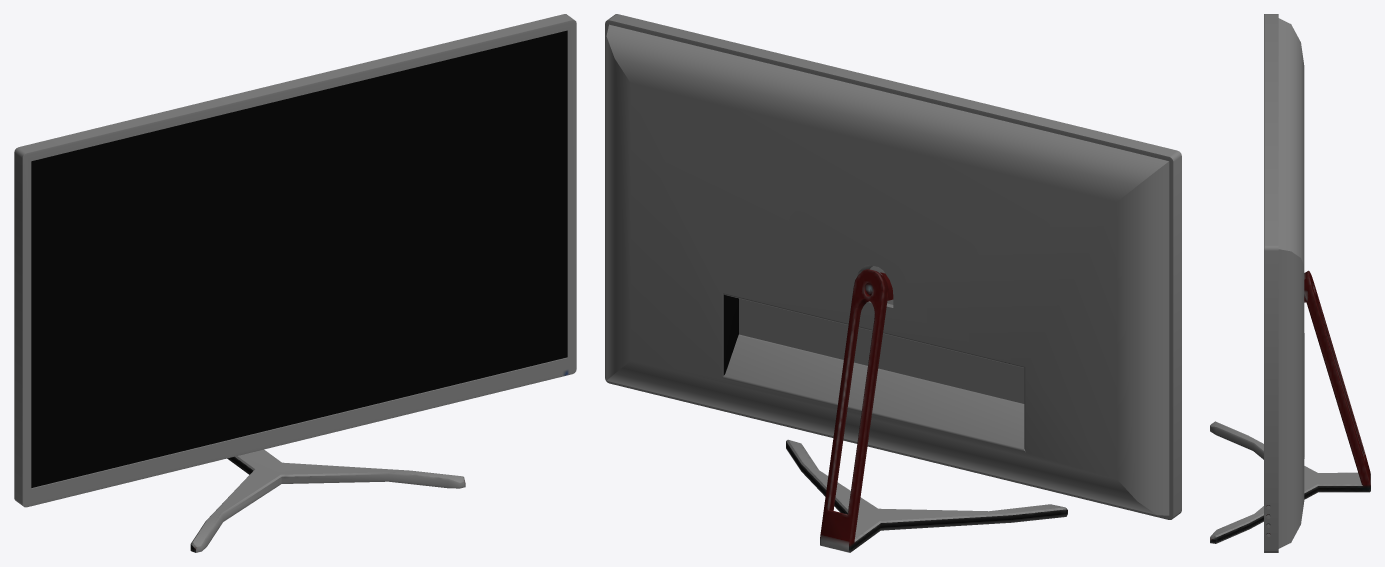
Rendered from ScanBoardingPass.fbx.
3 views of the same model, side by side, from view 1: azimuth 30°, elevation 25°; view 2: azimuth 150°, elevation 25°; view 3: azimuth 270°, elevation 25° (orthographic). The views are drawn at different scales.
Visible parts, largest first — view 1: ScanBoardingPass; view 2: ScanBoardingPass; view 3: ScanBoardingPass.
Part boxes in pixels (x1,y1,x2,y2): ScanBoardingPass: [14, 14, 576, 552]; ScanBoardingPass: [605, 14, 1181, 552]; ScanBoardingPass: [1210, 14, 1370, 552].
Bounding box in the file's own units: 244 × 172 × 70.53.
